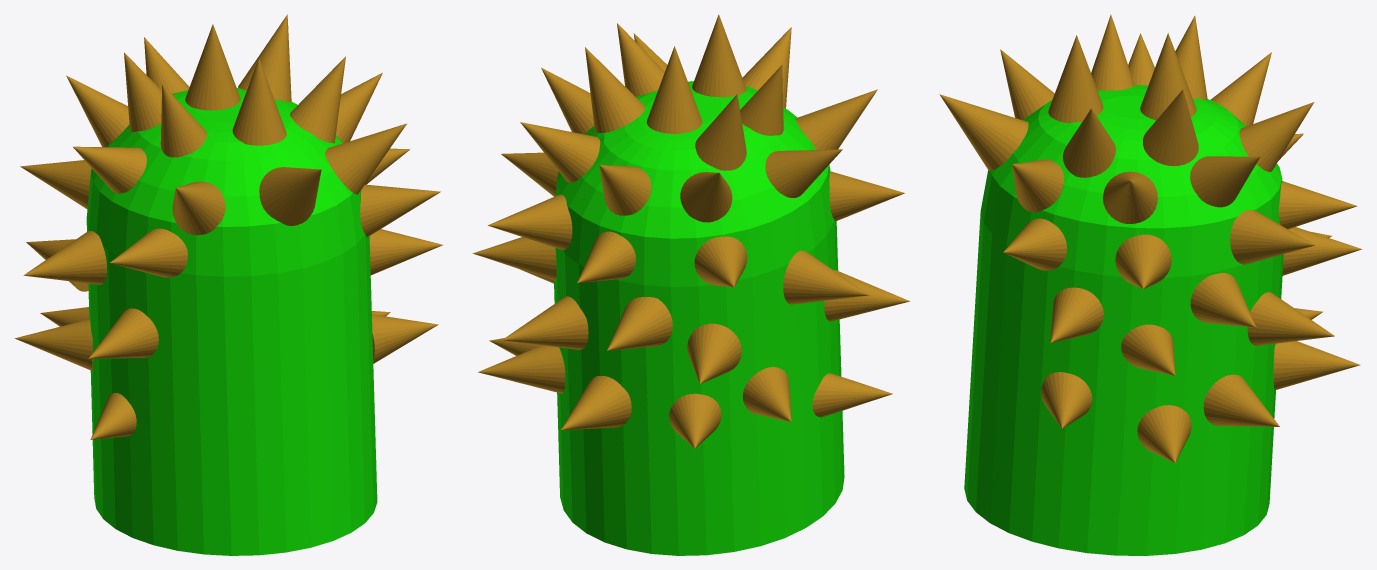
The model's file is sabodon.fbx.
The picture shows the model from 3 angles, left to right: view 1: azimuth 30°, elevation 25°; view 2: azimuth 150°, elevation 25°; view 3: azimuth 270°, elevation 25°; orthographic projection.
Parts seen in each view (by area): view 1: karada, doge, doge1, toge9, toge25, toge7, toge27, toge31, toge16, toge15, toge19, toge5 (+13 smaller); view 2: karada, toge7, toge9, toge10, toge32, toge12, toge28, toge29, toge20, doge1, toge34, toge18 (+18 smaller); view 3: karada, doge, toge28, toge32, toge10, toge18, doge1, toge20, toge17, toge12, toge8, toge13 (+16 smaller).
Boxes of the visible parts, x1=… form: karada: x1=86, y1=88, x2=377, y2=555; doge: x1=259, y1=167, x2=321, y2=225; doge1: x1=232, y1=58, x2=286, y2=145; toge9: x1=185, y1=24, x2=240, y2=110; toge25: x1=325, y1=123, x2=406, y2=194; toge7: x1=23, y1=231, x2=106, y2=284; toge27: x1=110, y1=228, x2=187, y2=277; toge31: x1=290, y1=56, x2=345, y2=143; toge16: x1=172, y1=181, x2=225, y2=235; toge15: x1=88, y1=308, x2=158, y2=358; toge19: x1=360, y1=184, x2=440, y2=237; toge5: x1=73, y1=146, x2=146, y2=193; karada: x1=554, y1=81, x2=844, y2=555; toge7: x1=783, y1=250, x2=869, y2=304; toge9: x1=646, y1=46, x2=702, y2=133; toge10: x1=502, y1=296, x2=588, y2=349; toge32: x1=585, y1=47, x2=645, y2=132; toge12: x1=561, y1=376, x2=631, y2=430; toge28: x1=487, y1=194, x2=572, y2=249; toge29: x1=607, y1=297, x2=672, y2=350; toge20: x1=520, y1=122, x2=600, y2=182; doge1: x1=692, y1=14, x2=746, y2=97; toge34: x1=695, y1=94, x2=746, y2=170; toge18: x1=478, y1=345, x2=565, y2=393; karada: x1=964, y1=85, x2=1283, y2=555; doge: x1=939, y1=94, x2=1028, y2=171; toge28: x1=1230, y1=210, x2=1314, y2=264; toge32: x1=1143, y1=89, x2=1198, y2=166; toge10: x1=1247, y1=292, x2=1334, y2=345; toge18: x1=1203, y1=374, x2=1279, y2=426; doge1: x1=1048, y1=35, x2=1103, y2=123; toge20: x1=1190, y1=156, x2=1259, y2=207; toge17: x1=1190, y1=273, x2=1256, y2=327; toge12: x1=1273, y1=341, x2=1360, y2=390; toge8: x1=1239, y1=102, x2=1314, y2=171; toge13: x1=1115, y1=234, x2=1171, y2=288.
Bounding box in the file's own units: 3.32 × 3.9 × 3.17.
